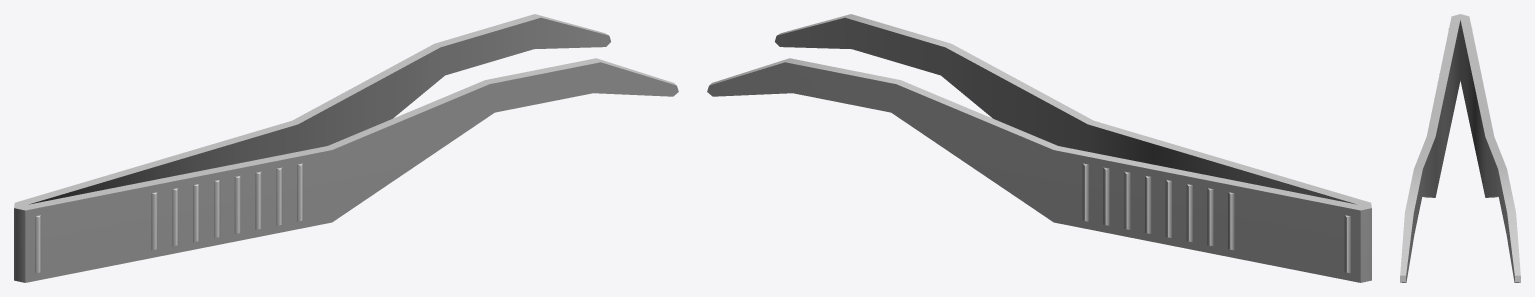
File: CR_sci_Pincette_001.FBX
3 renders of one model, left to right at view 1: azimuth 30°, elevation 25°; view 2: azimuth 150°, elevation 25°; view 3: azimuth 270°, elevation 25°, orthographic. The views are drawn at different scales.
Parts seen in each view (by area): view 1: CR_sci_Pincette_001; view 2: CR_sci_Pincette_001; view 3: CR_sci_Pincette_001.
Part boxes in pixels (left/top/right/bottom): CR_sci_Pincette_001: left=14, top=14, right=678, bottom=282; CR_sci_Pincette_001: left=707, top=14, right=1371, bottom=282; CR_sci_Pincette_001: left=1400, top=14, right=1520, bottom=282.
Bounding box in the file's own units: 10.44 × 1.7 × 2.06.
